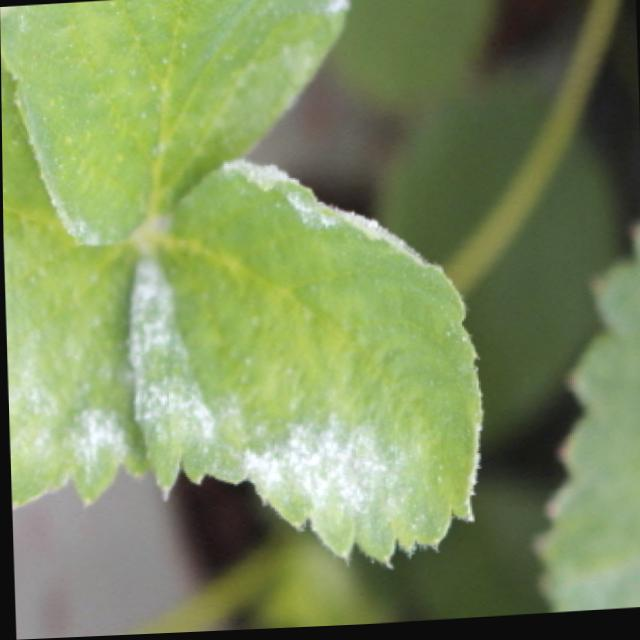Powdery Mildew Leaf: (124, 158, 484, 574), (0, 0, 349, 245), (1, 54, 154, 513)
